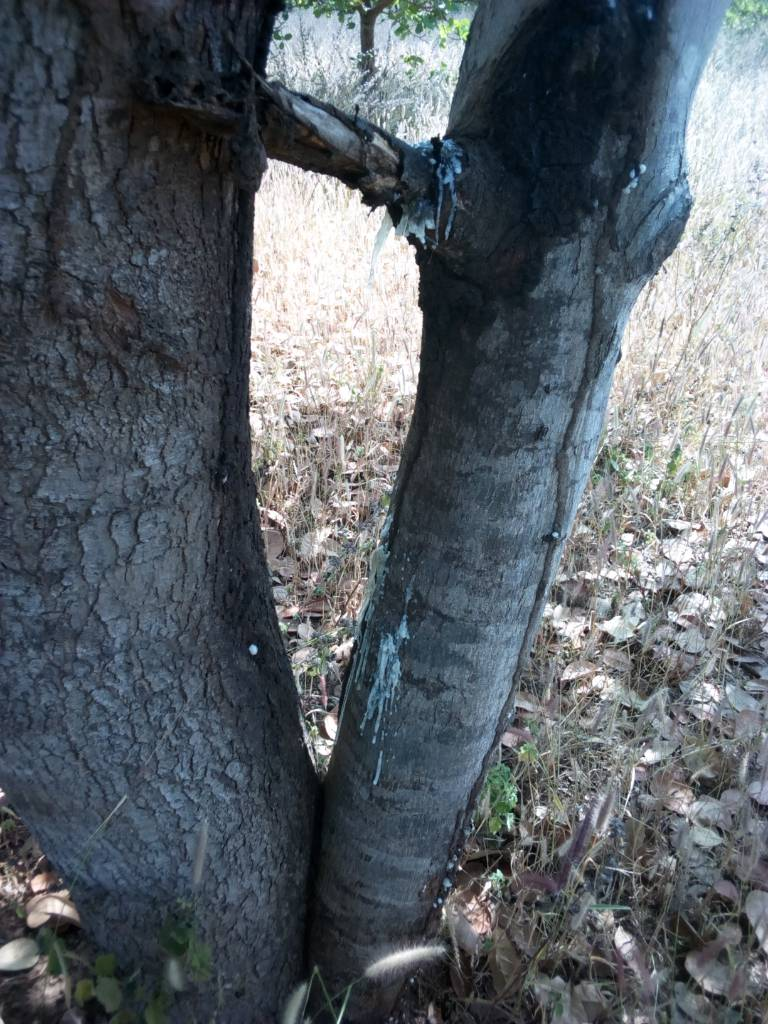Termites: (18, 172, 279, 833)
